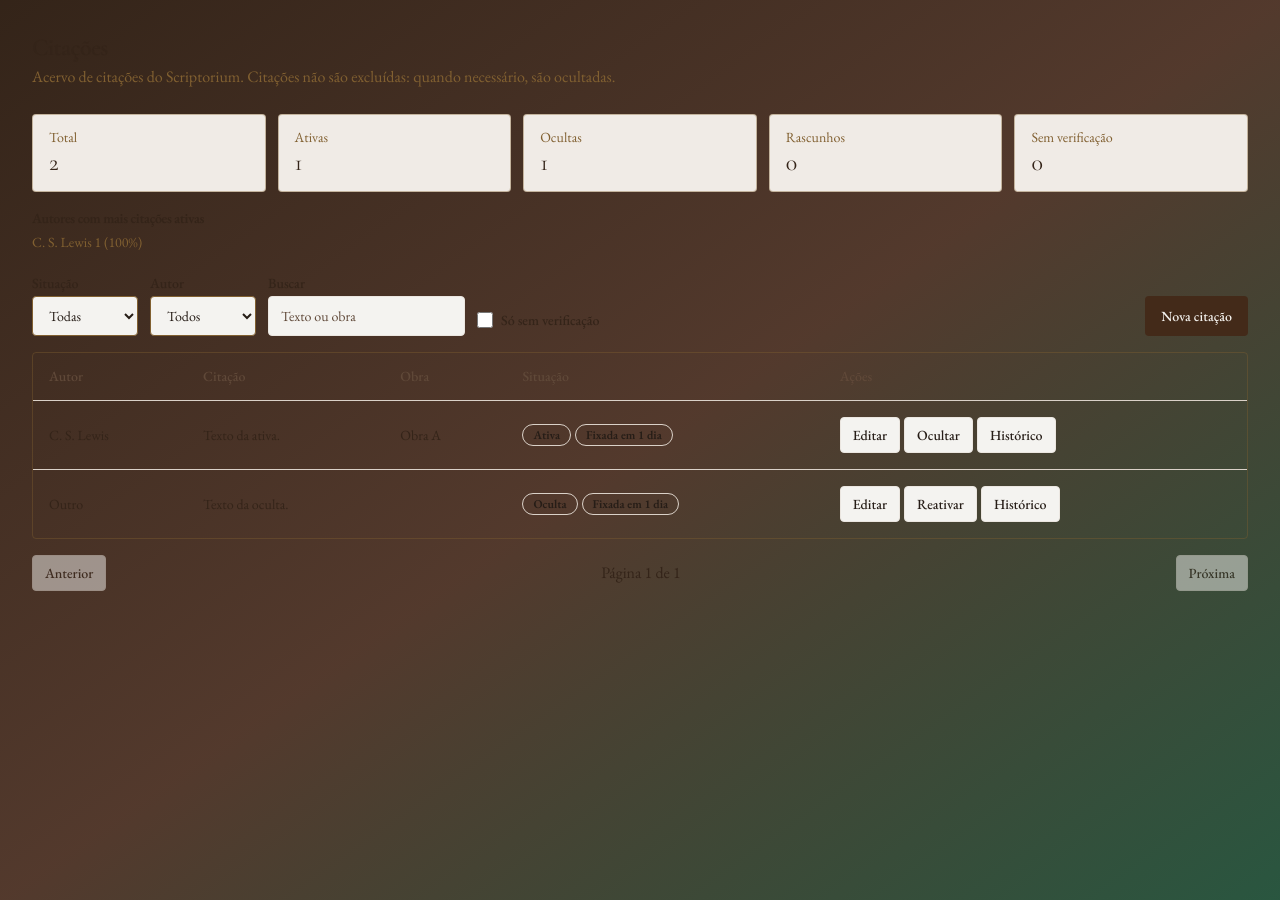
Scenario: QuotesPanel › Histórico abre a gaveta
The width and height of the screenshot is (1280, 900).
What coordinates should you click on to do the following:
click the button with aria-label "Histórico da citação de Outro"
I would click on:
 (1020, 504)
Its box is x1=981 y1=486 x2=1060 y2=522.
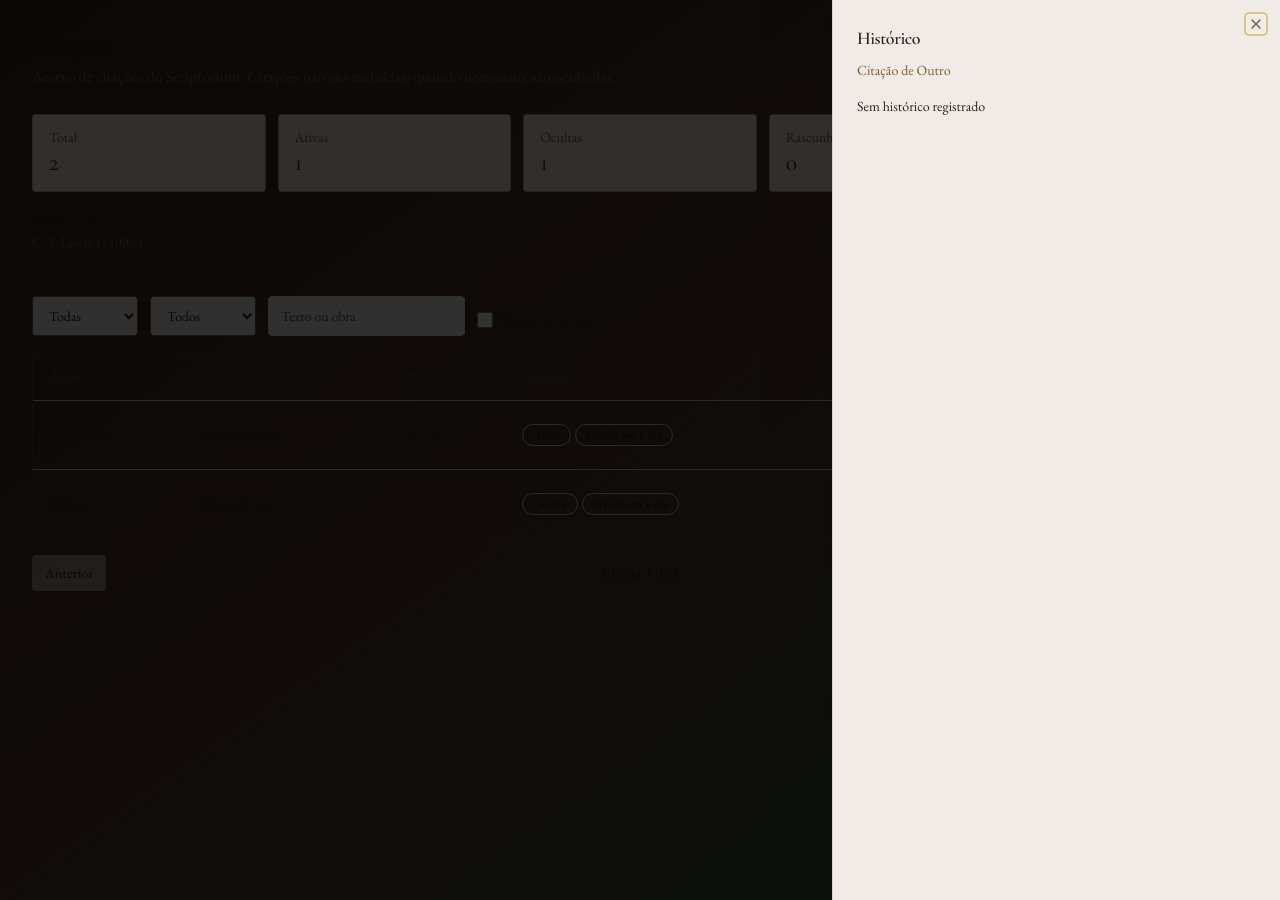
Check: the text "Sem histórico registrado" is shown, box x1=857 y1=97 x2=985 y2=115
